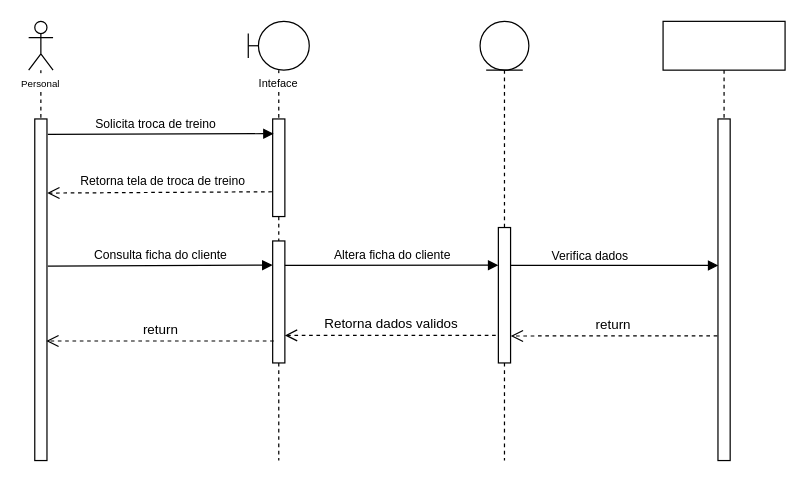
Image size: 806x482. Some labels were removed from this diagram. The centre of each missing label's shape, as x and y in pixels:
"Autenticar dados" belongs at point 504,240.
"Banco de dados" belongs at point 723,69.
